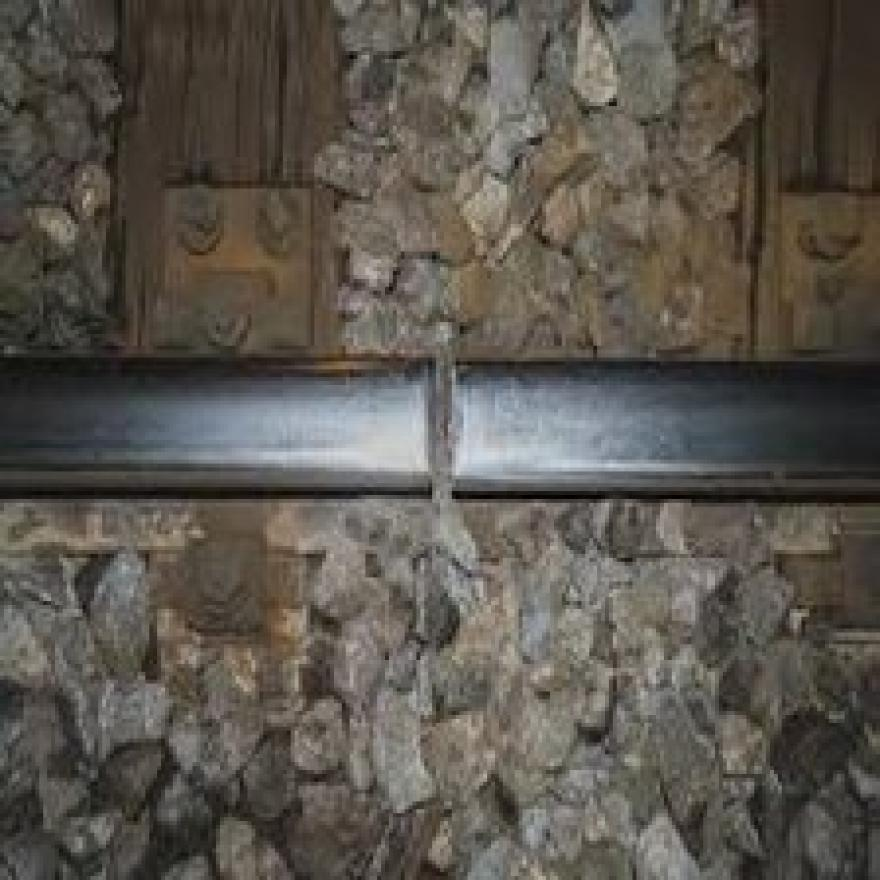railway-gap: (291, 266, 590, 583)
